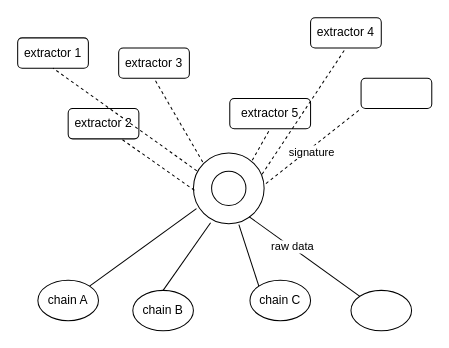
The diagram is 449 pixels wide and 348 high, and some of its shapes have lost their labels. The box of each missing label's shape, as (x1, y1, x2, y2) in pixels:
chain D: (350, 289, 412, 331)
extractor 6: (360, 77, 432, 109)
